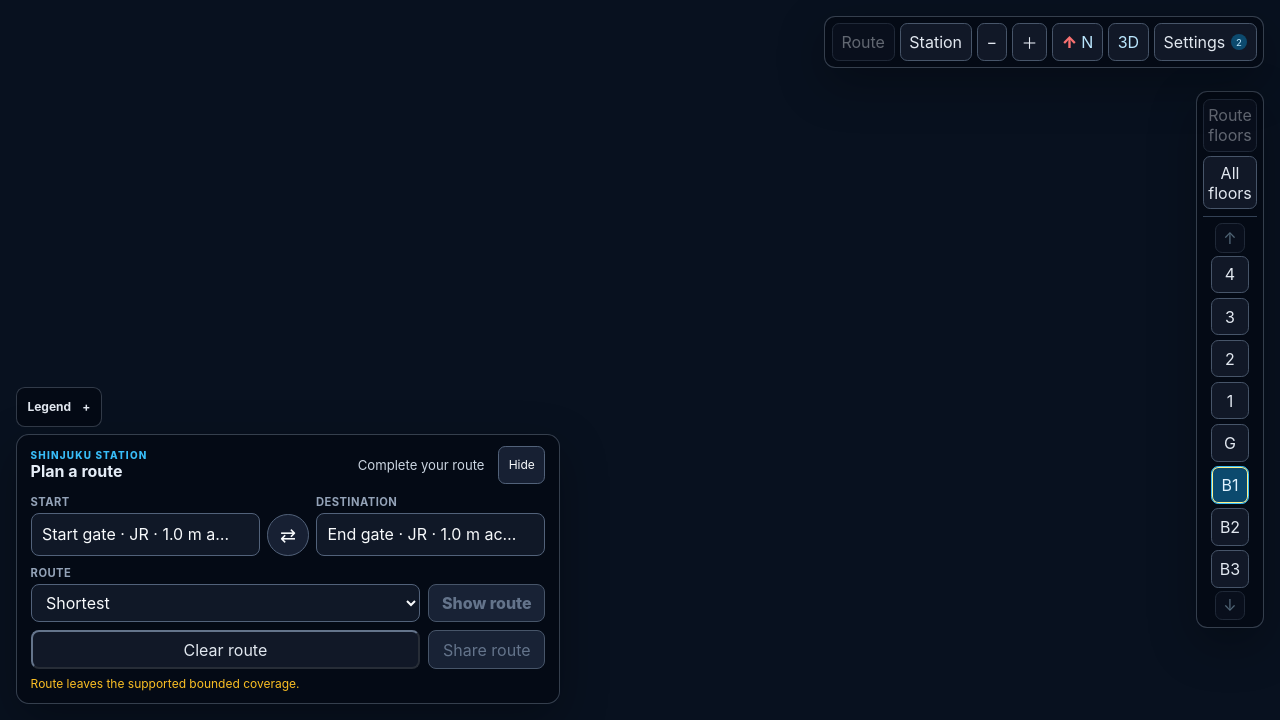
Test case: viewer controls › disables marker detail controls when markers are hidden
The image size is (1280, 720).
Click the heading named "Map settings". click: point(1205, 42)
box: [1154,23,1257,61]
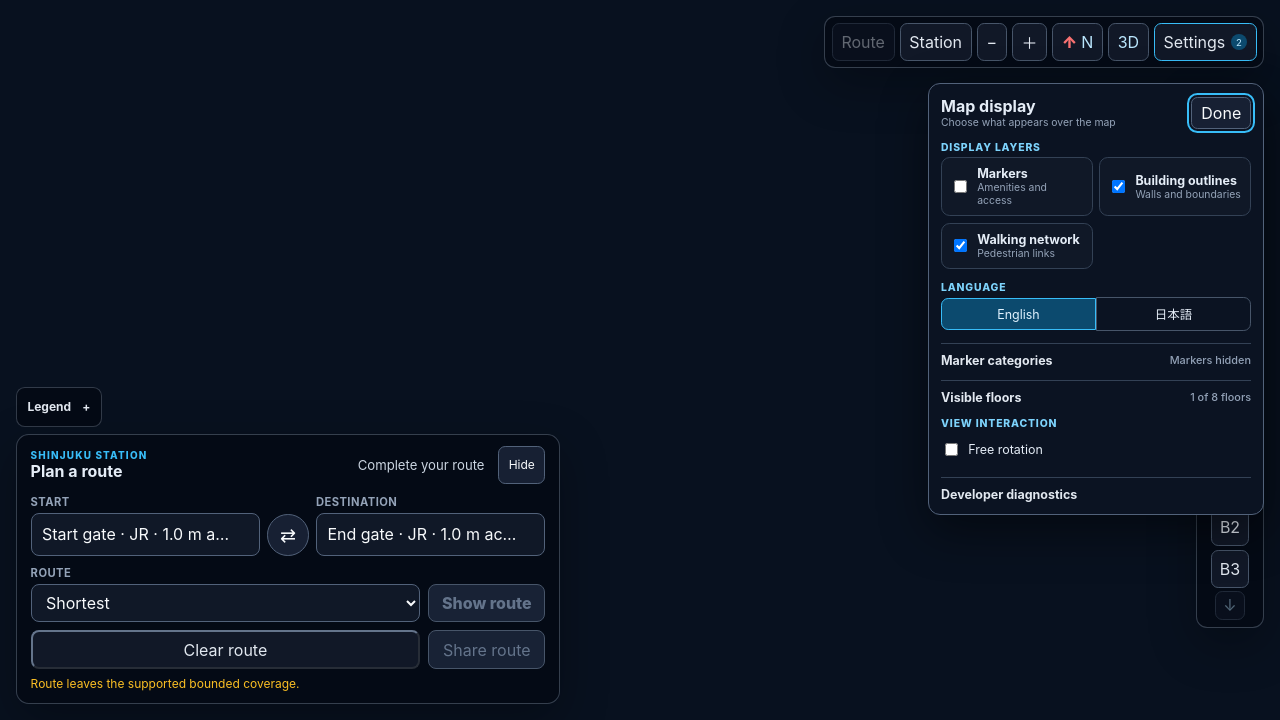
Click the heading "Marker categories Markers hidden". click: point(997, 361)
box: [941,353,1251,368]
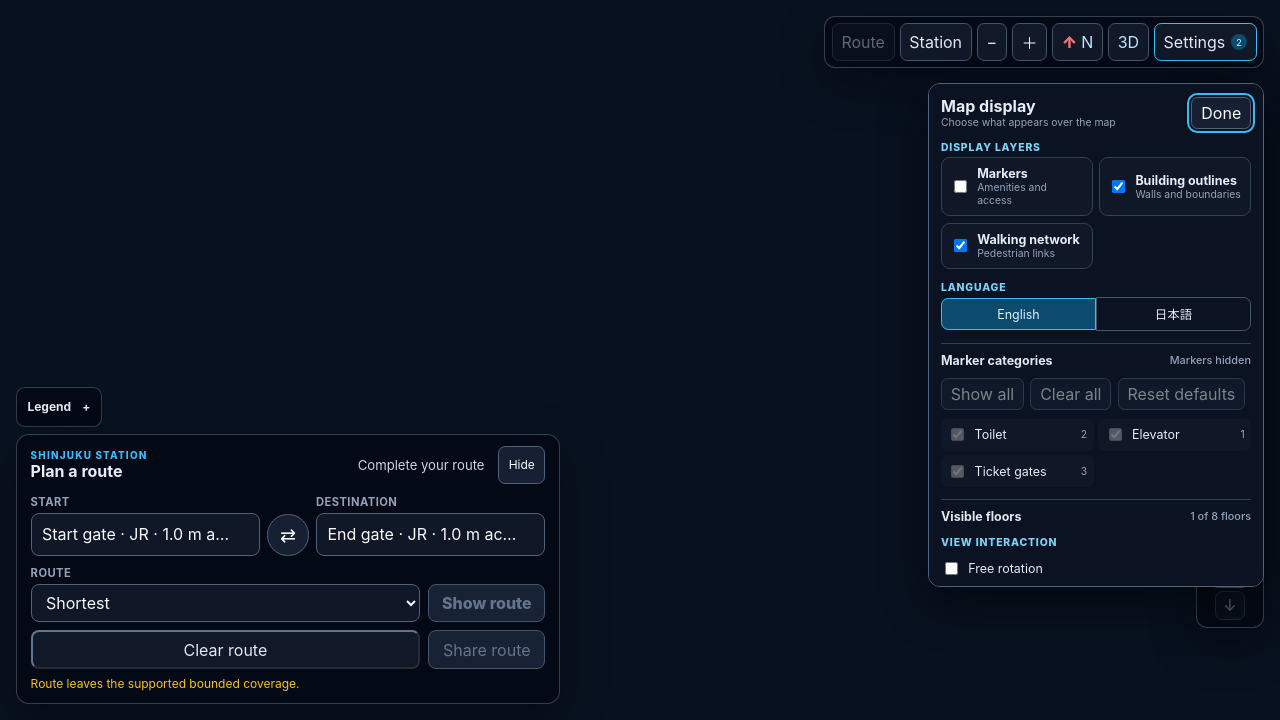
Now the checkbox labelled "Toilet 2" is disabled, box [951,428,964,441]
